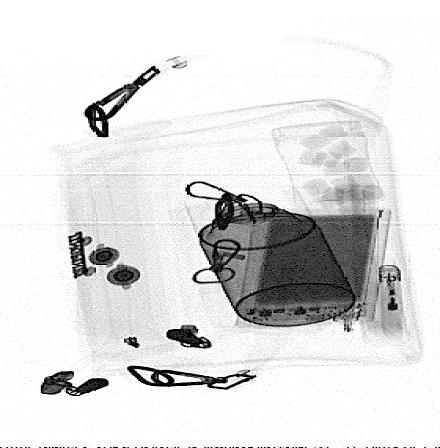Lighter: (378, 265, 405, 338)
Powerbank: (236, 210, 393, 327)
Sprayer: (182, 180, 358, 327)
